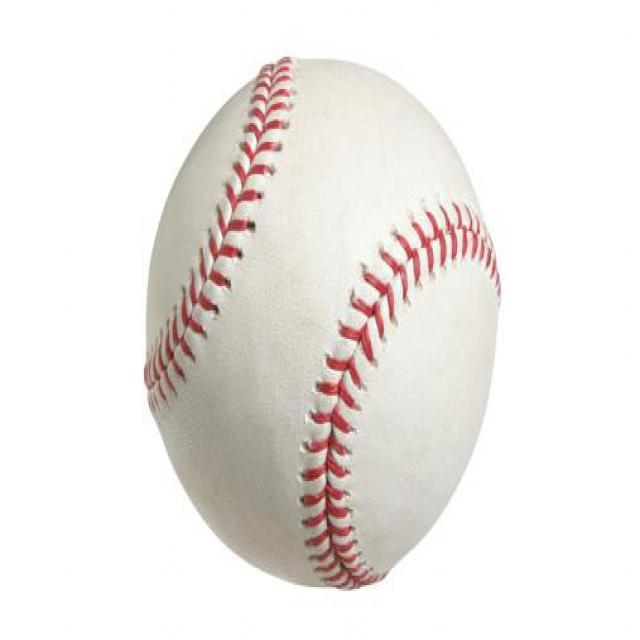baseball: (147, 59, 502, 587)
